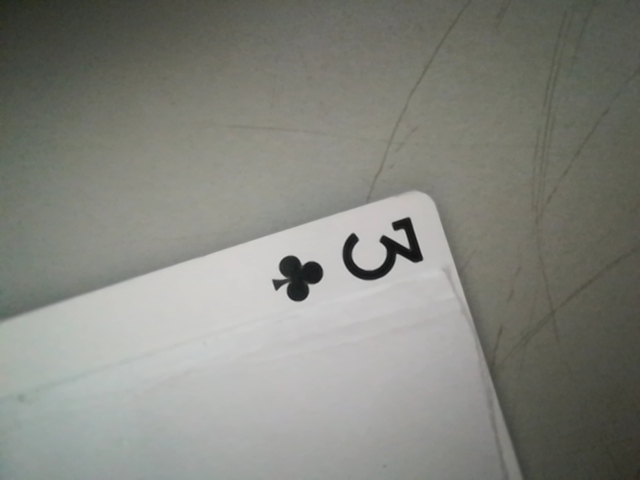mh 3: (264, 206, 436, 302)
